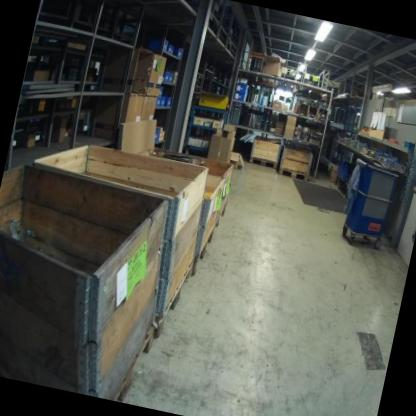pallet: (151, 253, 195, 346), (113, 325, 155, 406), (188, 223, 214, 283), (208, 200, 227, 246), (276, 166, 309, 183), (247, 155, 278, 171)
small_load_carrier: (147, 35, 167, 54), (230, 90, 248, 104), (339, 163, 351, 182), (170, 43, 184, 59), (158, 68, 170, 85), (151, 126, 160, 146), (234, 82, 248, 93), (152, 98, 163, 112), (164, 42, 174, 56), (335, 161, 342, 180), (156, 85, 166, 98), (166, 71, 174, 87), (165, 96, 173, 111), (160, 96, 168, 107)
